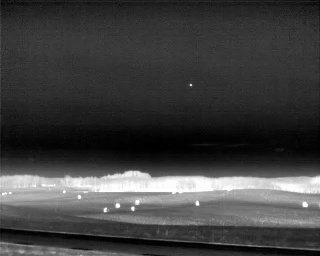BIRD: (187, 81, 194, 89)
